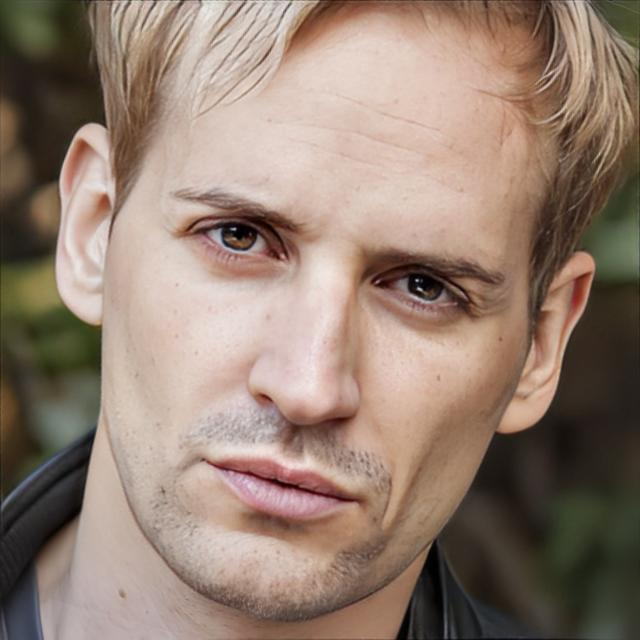anger: (117, 33, 538, 626)
